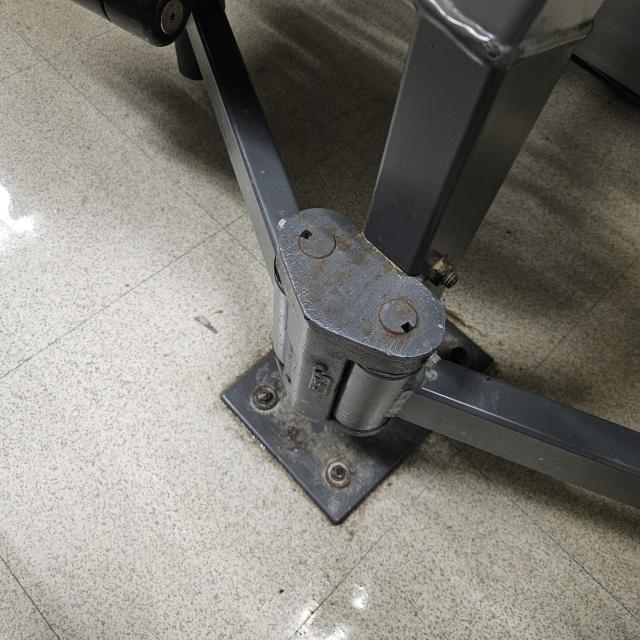Crevice Corrosion: (249, 386, 398, 501)
Filiform Corrosion: (275, 210, 446, 432)
